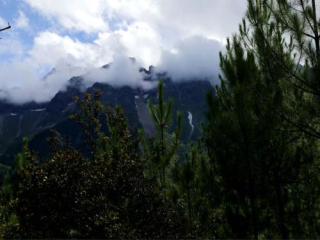smoke: (42, 13, 223, 83)
